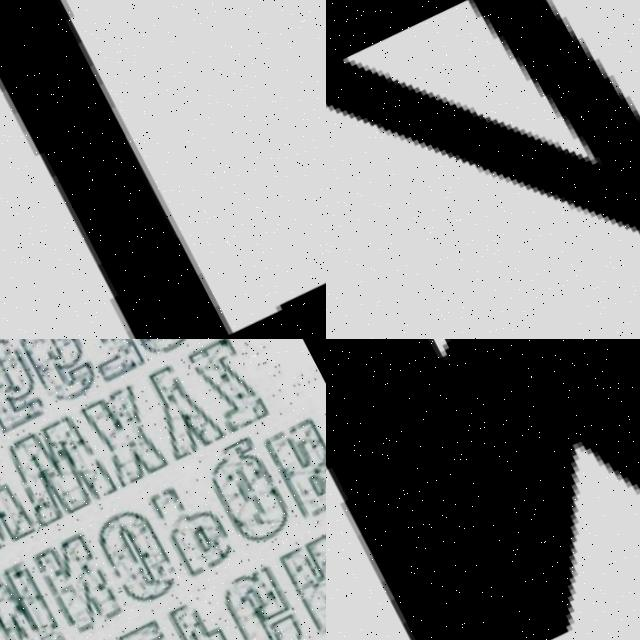5: (0, 339, 52, 433)
6: (11, 339, 107, 408)
7: (62, 339, 145, 379)
M: (326, 339, 640, 640)
T: (0, 0, 326, 339)
